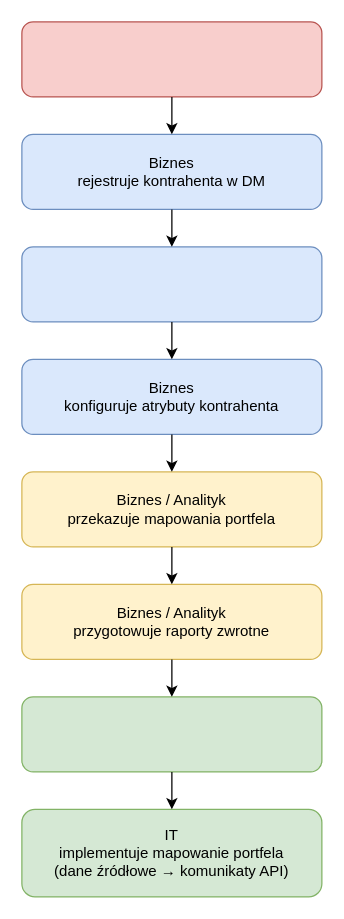
The diagram is 344 pixels wide and 919 high, and some of its shapes have lost their labels. The centre of each missing label's shape, as x and y in pixels:
"Biznes konfiguruje warunki umowy" goes at (171,284).
"IT konfiguruje klienta API (OAuth)" goes at (171,734).
"Kontrahent przekazuje opis portfela" goes at (171,59).
